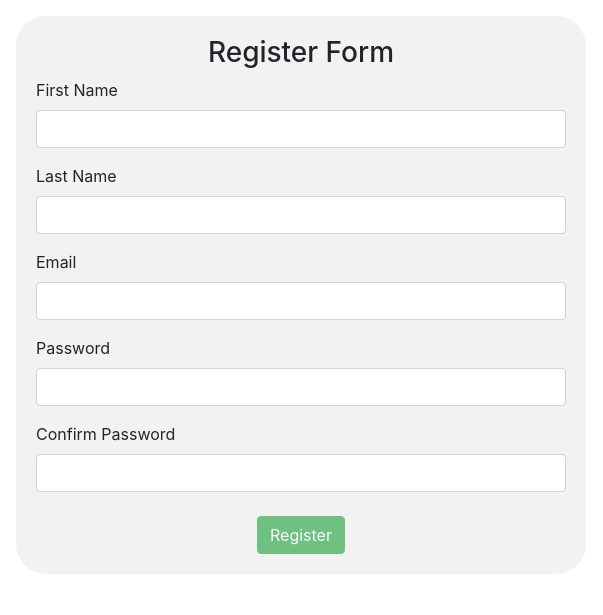
Test: register page › test password validation › fill password with 8 lowercase characters, expect error saying *Password must contain at least 1 uppercase and 1 lowercase
This screenshot has width=603, height=615.
Step 1. Type "qwertyui" into the 1st password field named "password" → coordinates (301, 387), box [36,368,566,406]
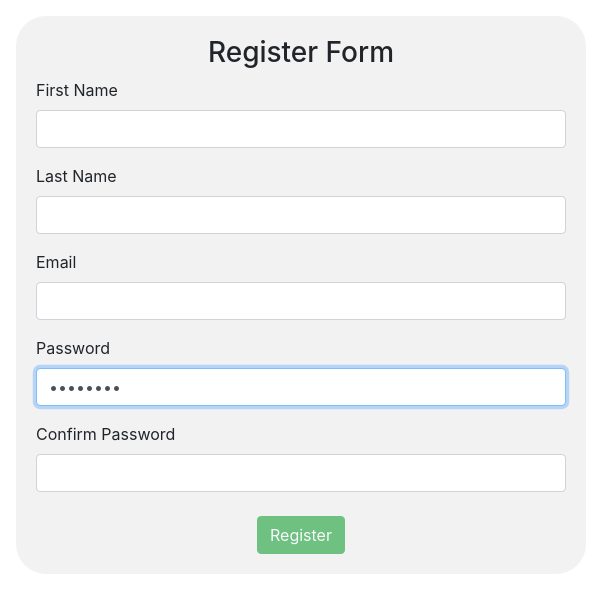
Step 2. Focus the password field named "confirmPassword" below "Confirm Password" → coordinates (301, 473), box [36,454,566,492]
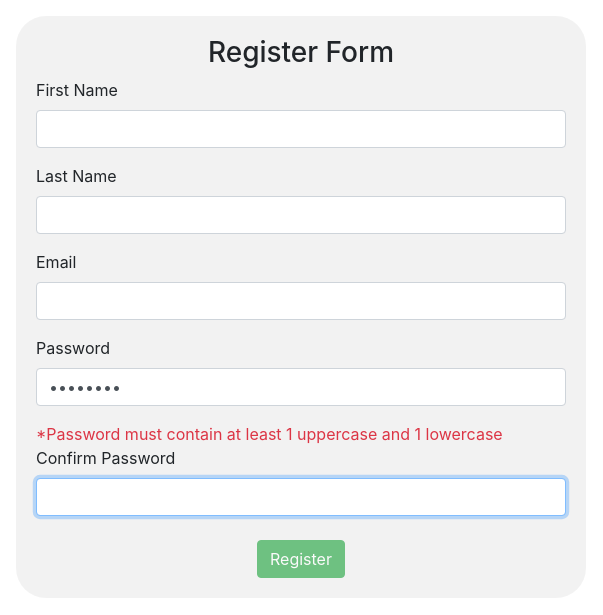
Expected: the text "*Password must contain at least 1 uppercase and 1 lowercase" is shown, [36,422,566,446]
